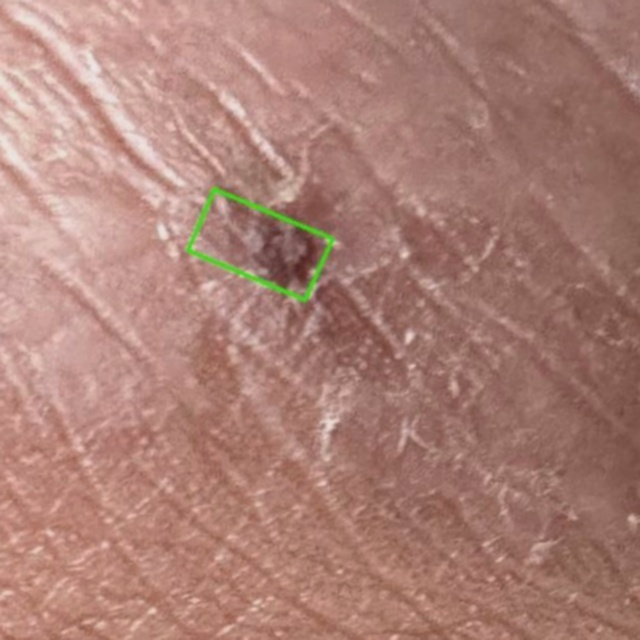Scabies: (187, 188, 331, 300)
